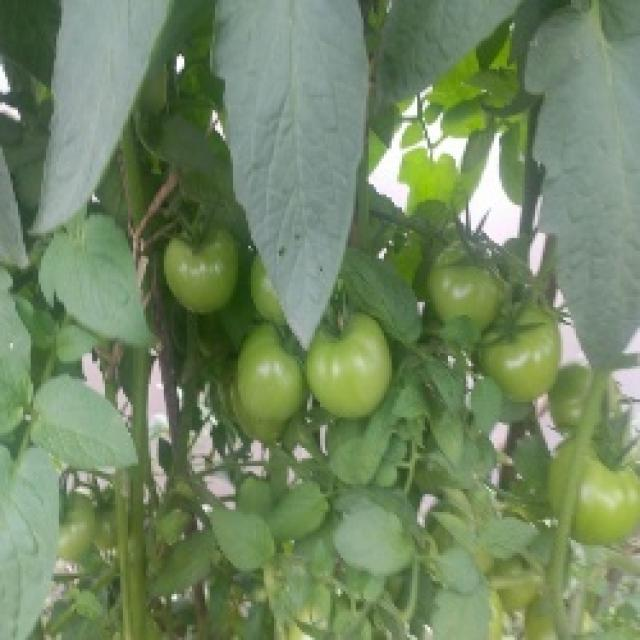tomato: (305, 307, 400, 426), (479, 300, 566, 410), (425, 227, 510, 332), (161, 220, 243, 318), (235, 323, 303, 426), (577, 439, 640, 544), (242, 256, 288, 330), (62, 487, 101, 570), (549, 360, 586, 425), (547, 435, 576, 505), (493, 572, 540, 611), (605, 381, 633, 441)
